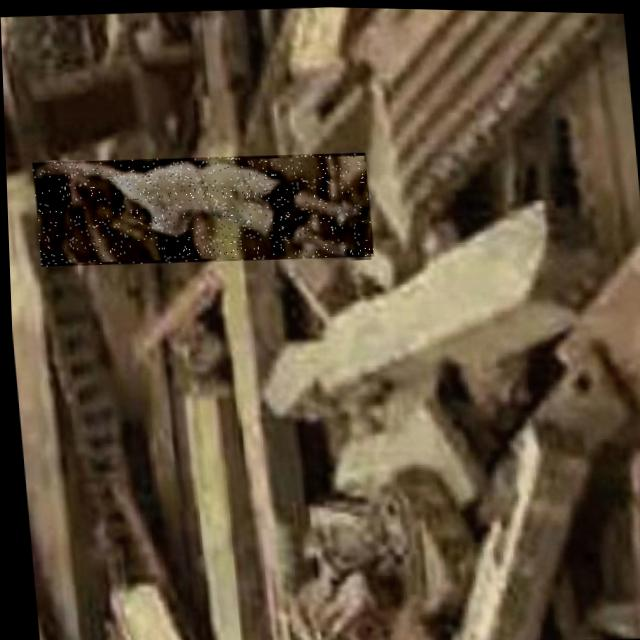Person in Rubble: (31, 144, 373, 271)
